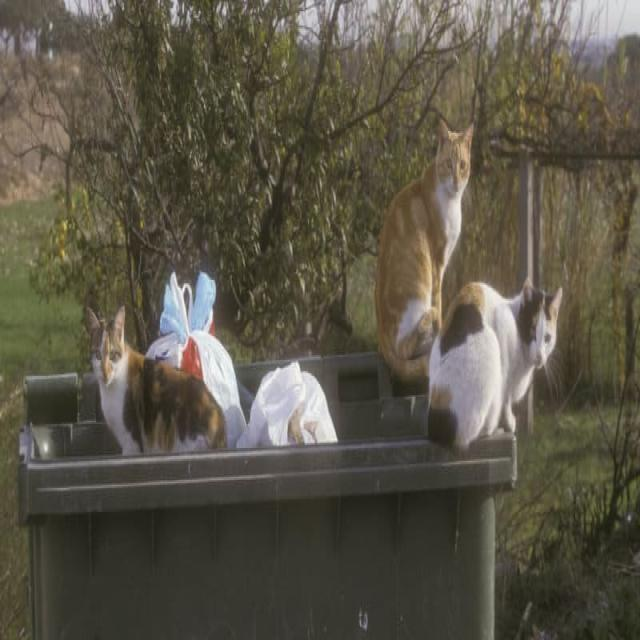cat: (375, 120, 474, 381), (428, 280, 561, 449), (88, 308, 226, 455)
